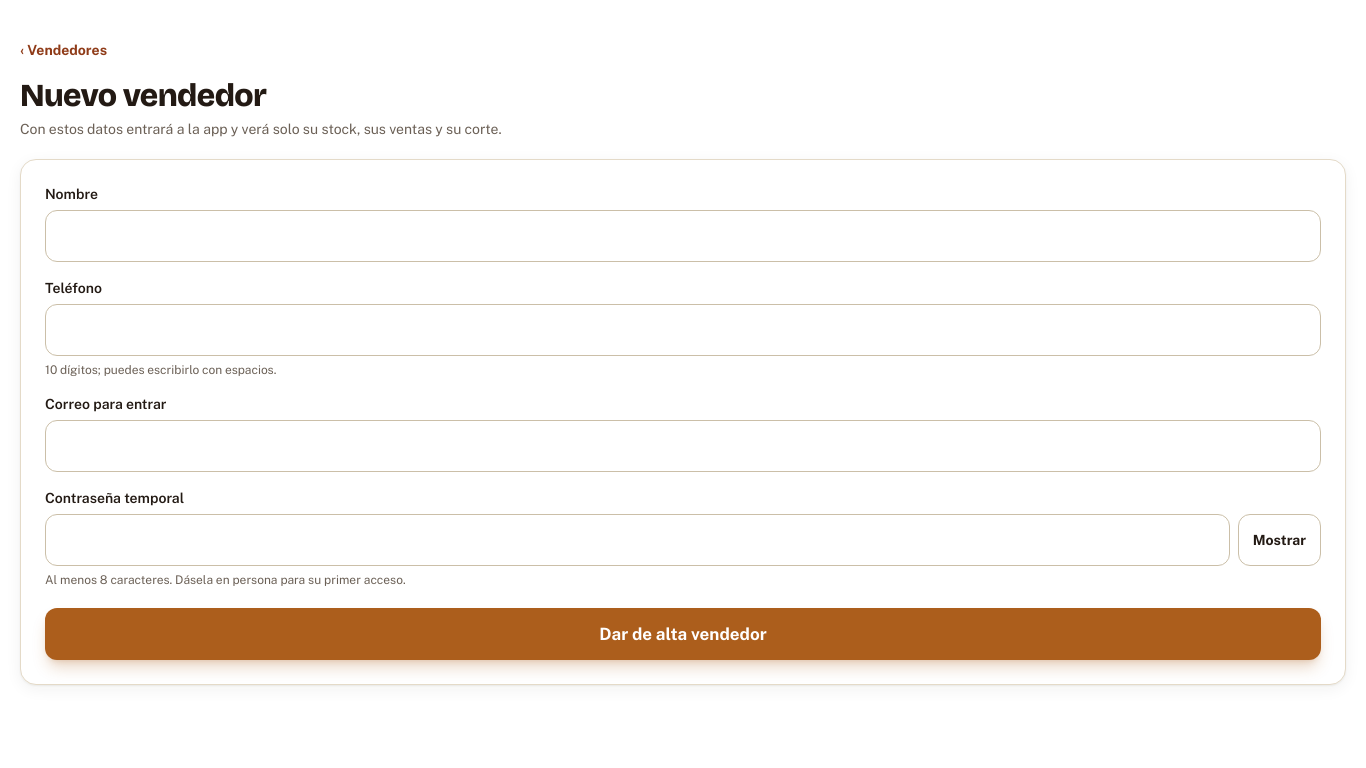
Test: CreateSellerPageComponent › teléfono sin 10 dígitos, correo inválido y contraseña corta tienen su propio mensaje
Type "Luis" into the field with id "full-name" at (683, 236), box [45,210,1321,262]
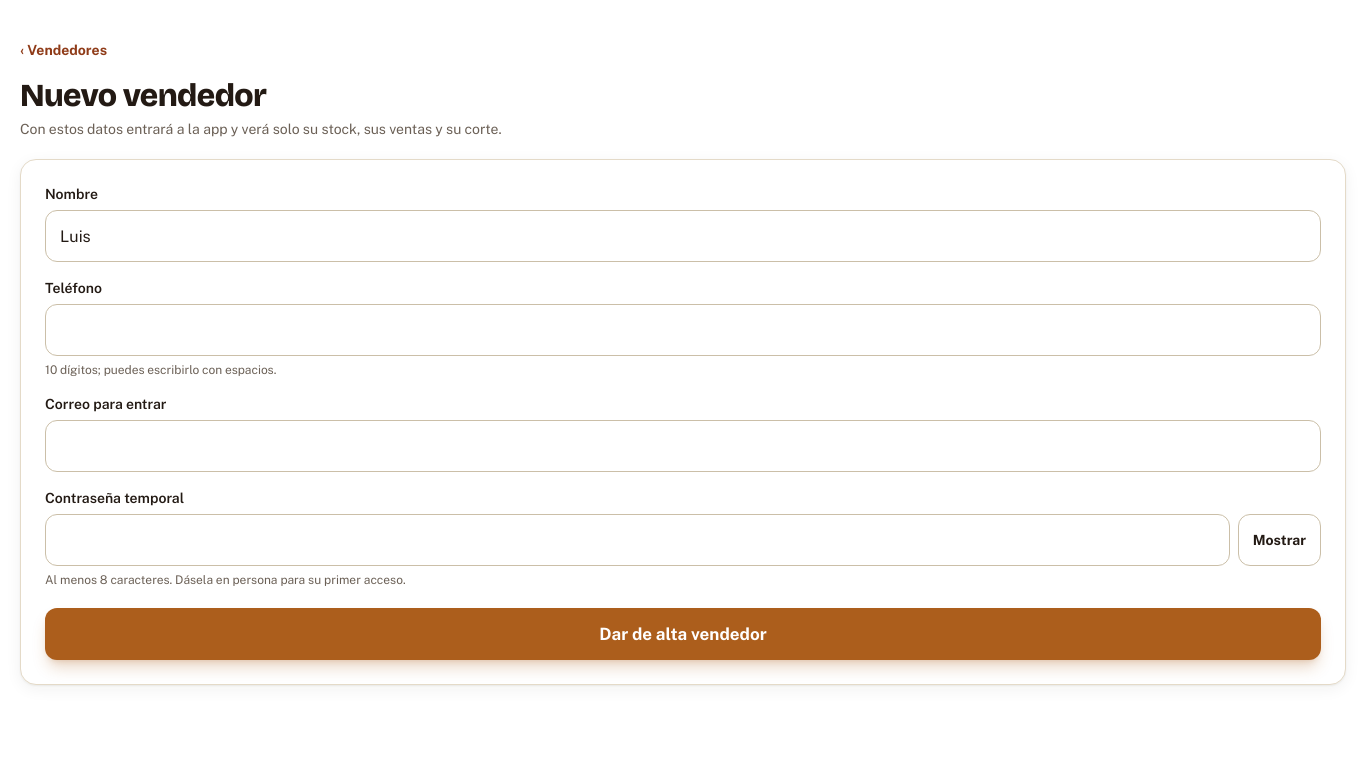
Type "+52 55 2468 1357" into the field labelled "Teléfono" at (683, 330), box [45,304,1321,356]
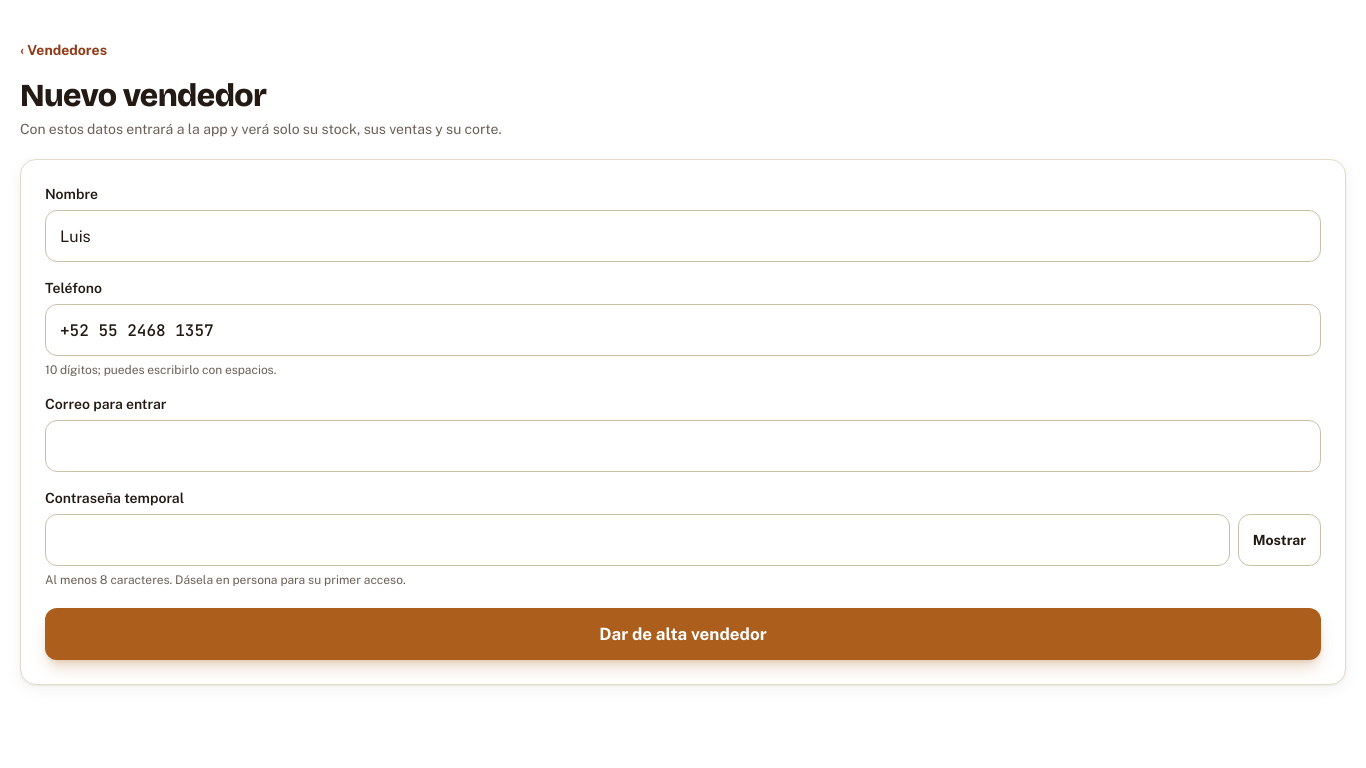
Type "sin-arroba" into the field with id "email" at (683, 446), box [45,420,1321,472]
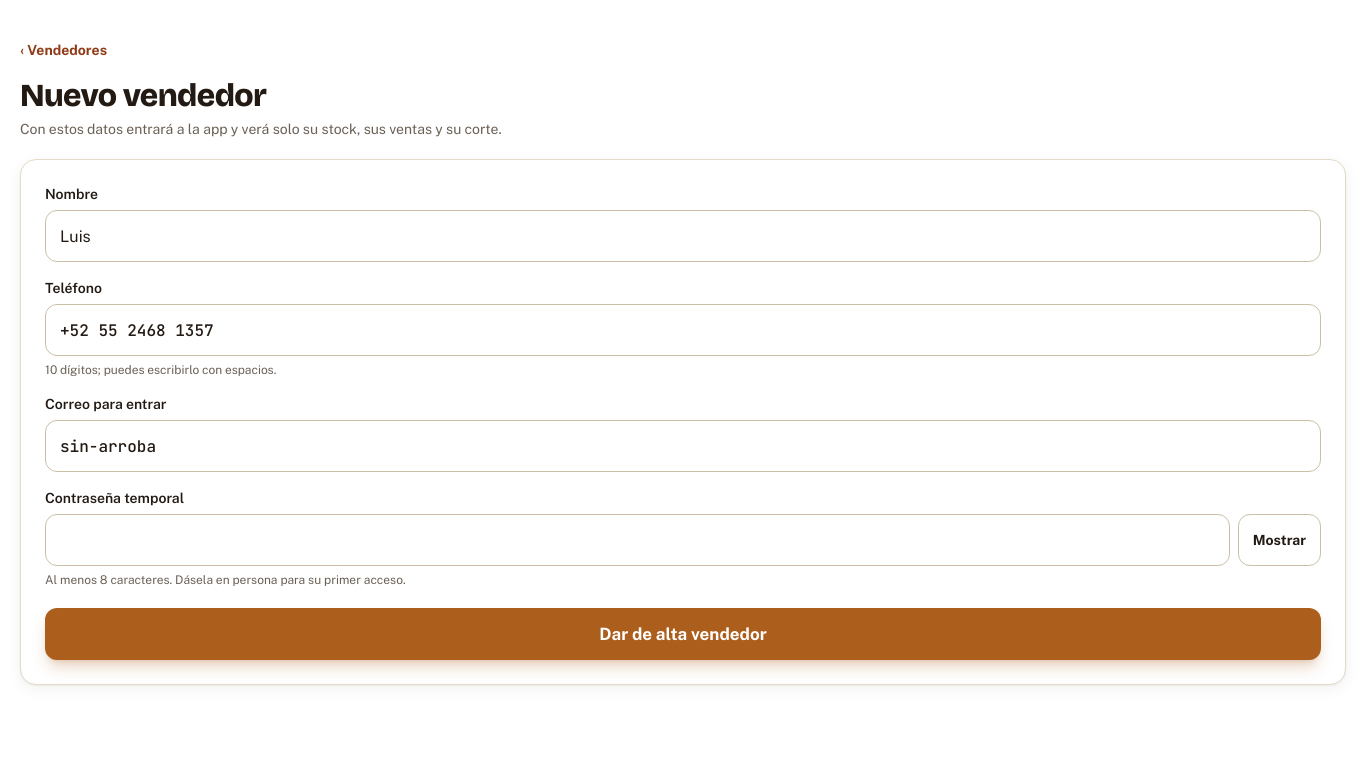
Type "corta" into the password field labelled "Contraseña temporal" at (637, 540), box [45,514,1230,566]
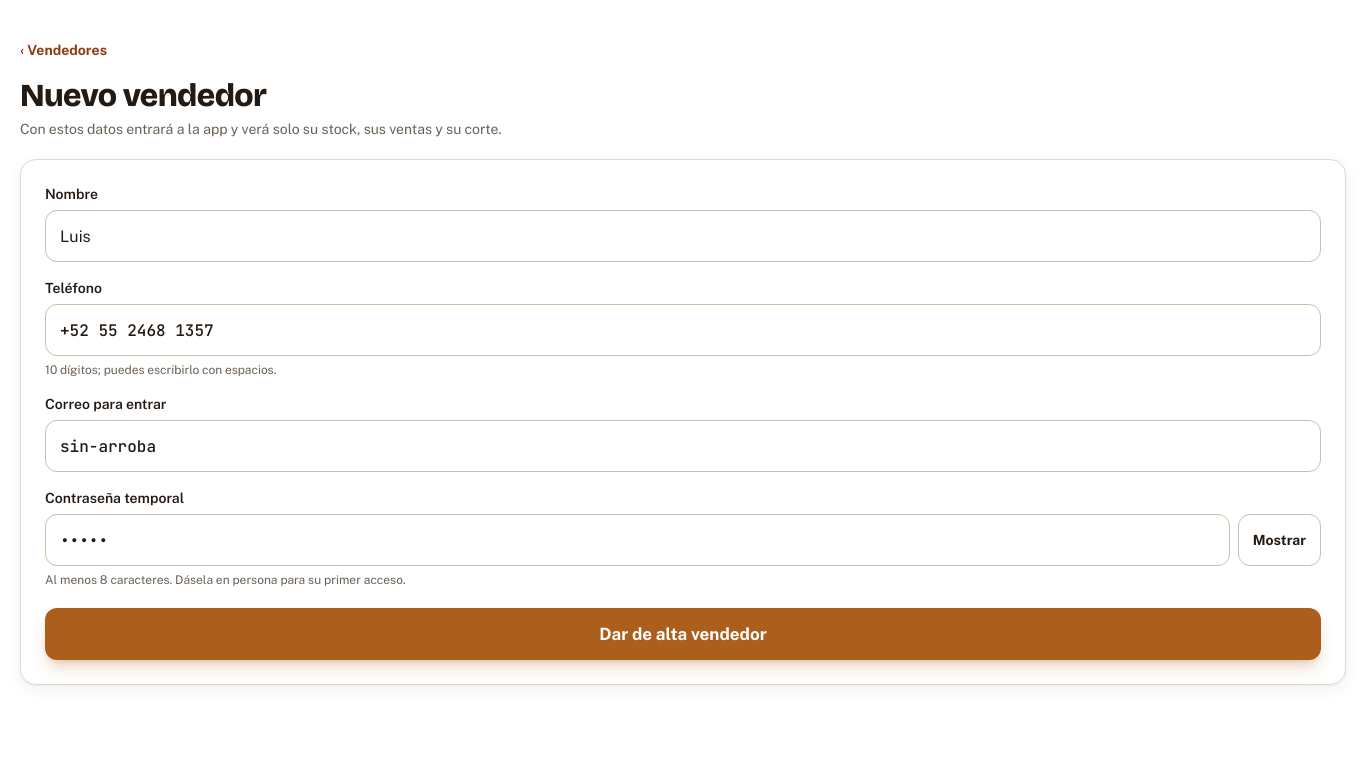
Submit the form
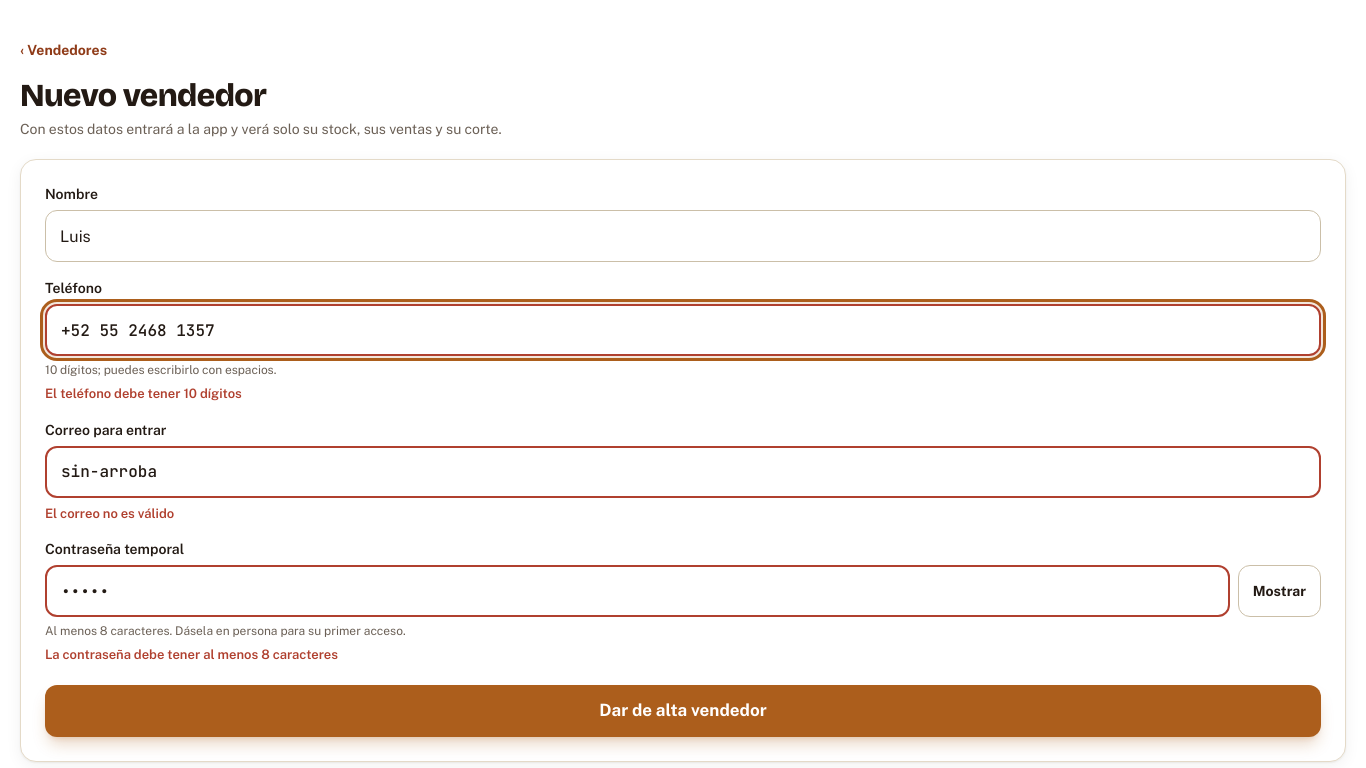
Now the text "El teléfono debe tener 10 dígitos" is shown, box [45,386,242,401]
Now the text "El correo no es válido" is shown, box [45,506,174,521]
Now the text "La contraseña debe tener al menos 8 caracteres" is shown, box [45,647,338,662]
